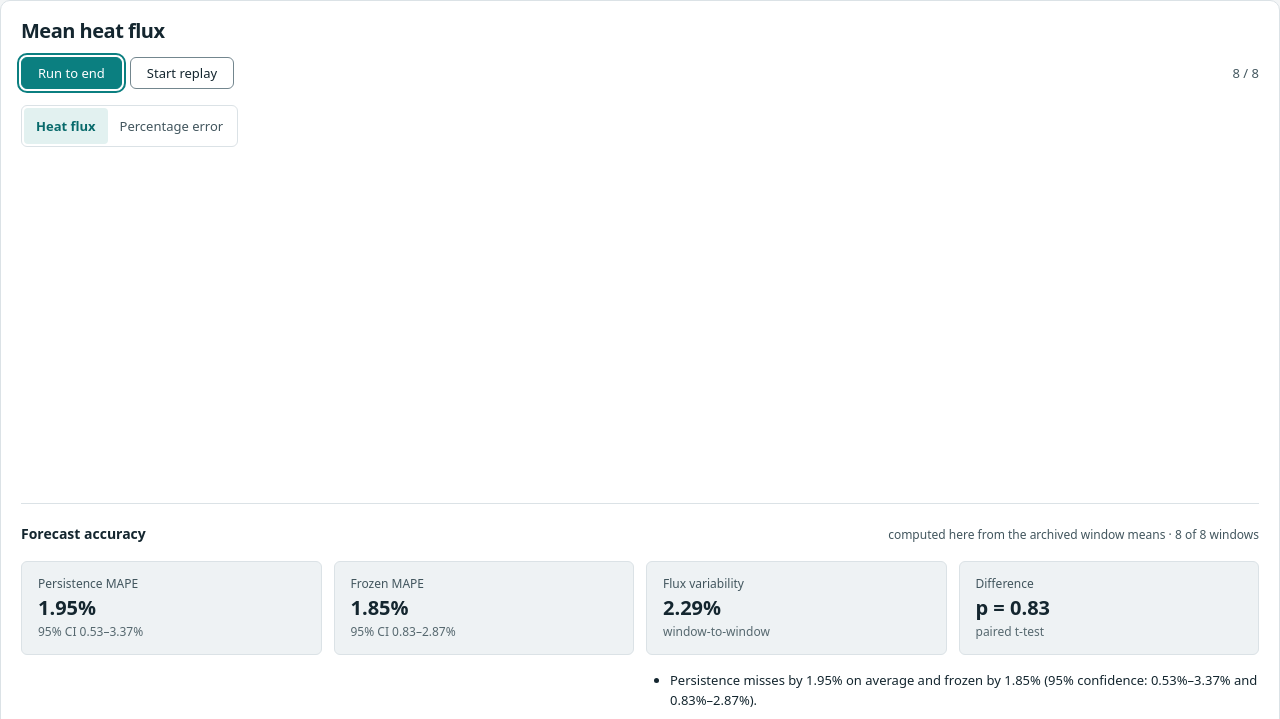
Test: Run to end plots every prediction before its observation at distinct times, and can pause and resume
Later steps or results of the test are not shown.
Step 1. Click the button "Run to end" → (71, 73), box 21,57 -> 122,89
Wait 200 ms
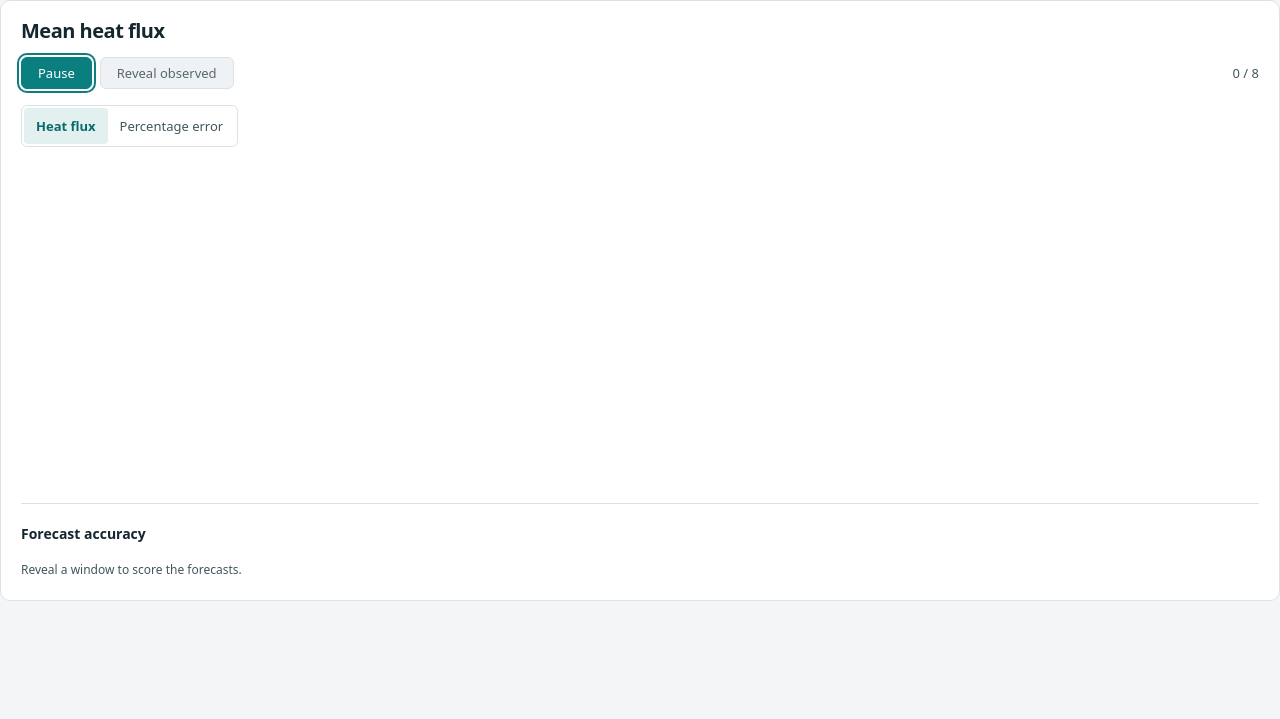
Now the button "Reveal observed" is disabled, box 100,57 -> 234,89
Step 2. Click the button "Pause" → (56, 73), box 21,57 -> 92,89
Wait 1000 ms
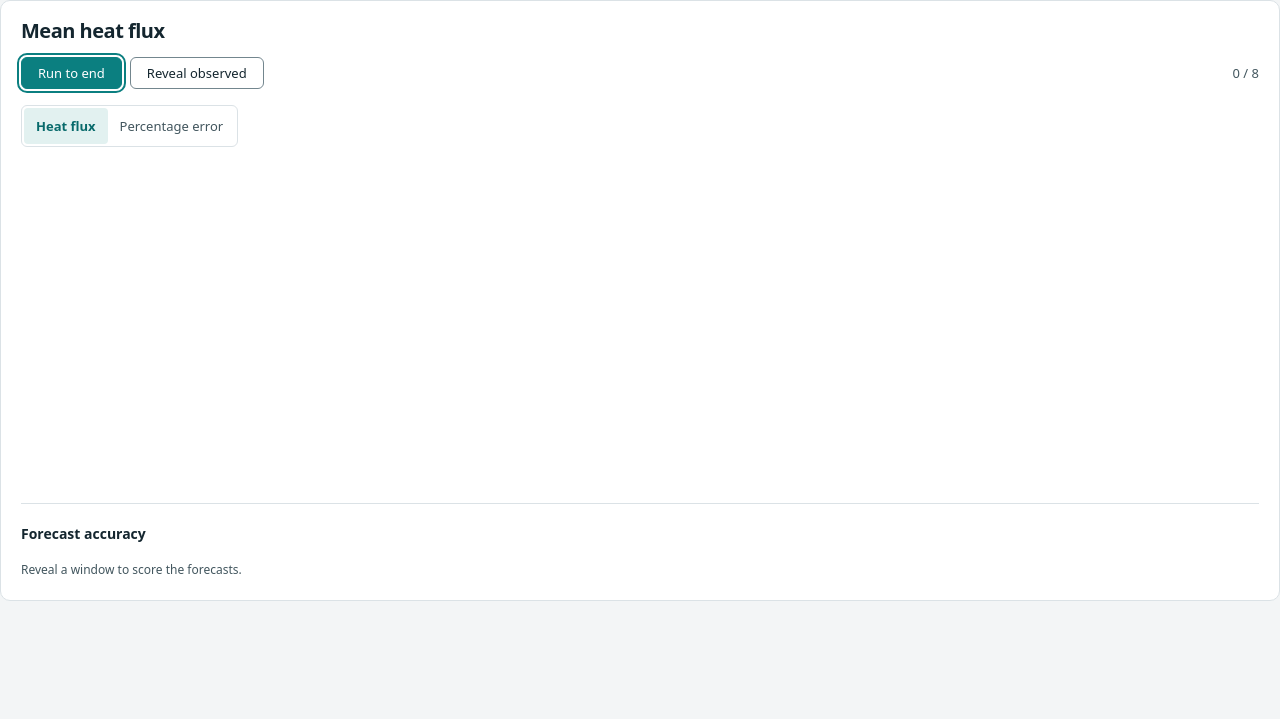
Now the button "Reveal observed" is enabled, box 130,57 -> 264,89
